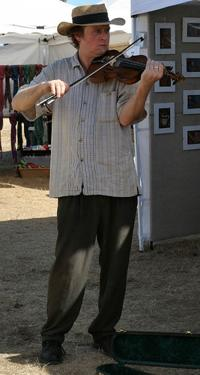person: (12, 2, 166, 365)
